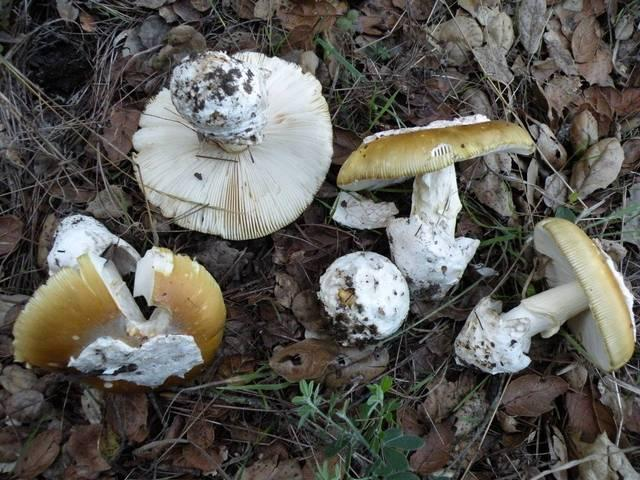Edible Mushroom: (130, 48, 334, 240), (335, 113, 536, 301), (11, 244, 226, 391), (453, 215, 635, 376), (316, 249, 410, 344), (45, 212, 141, 279)
